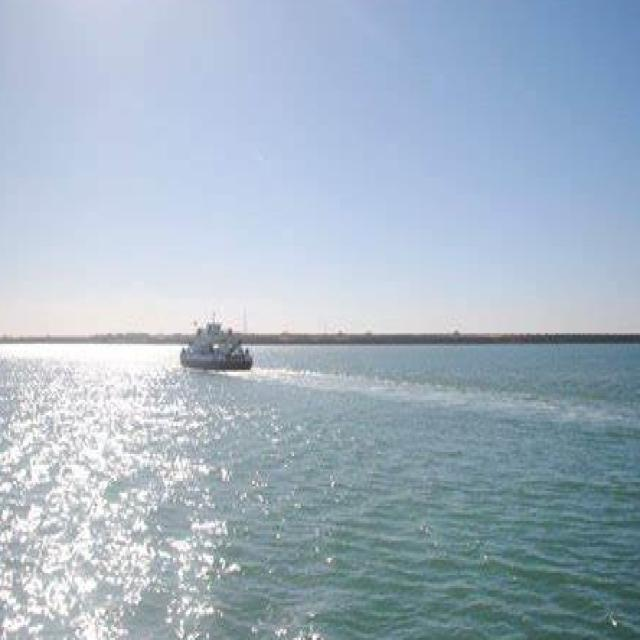houseboat: (178, 309, 250, 370)
